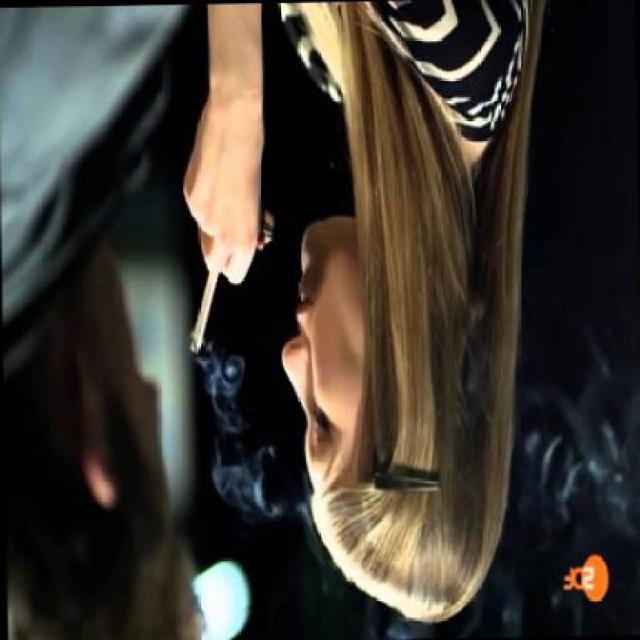smoke: (184, 266, 223, 354)
